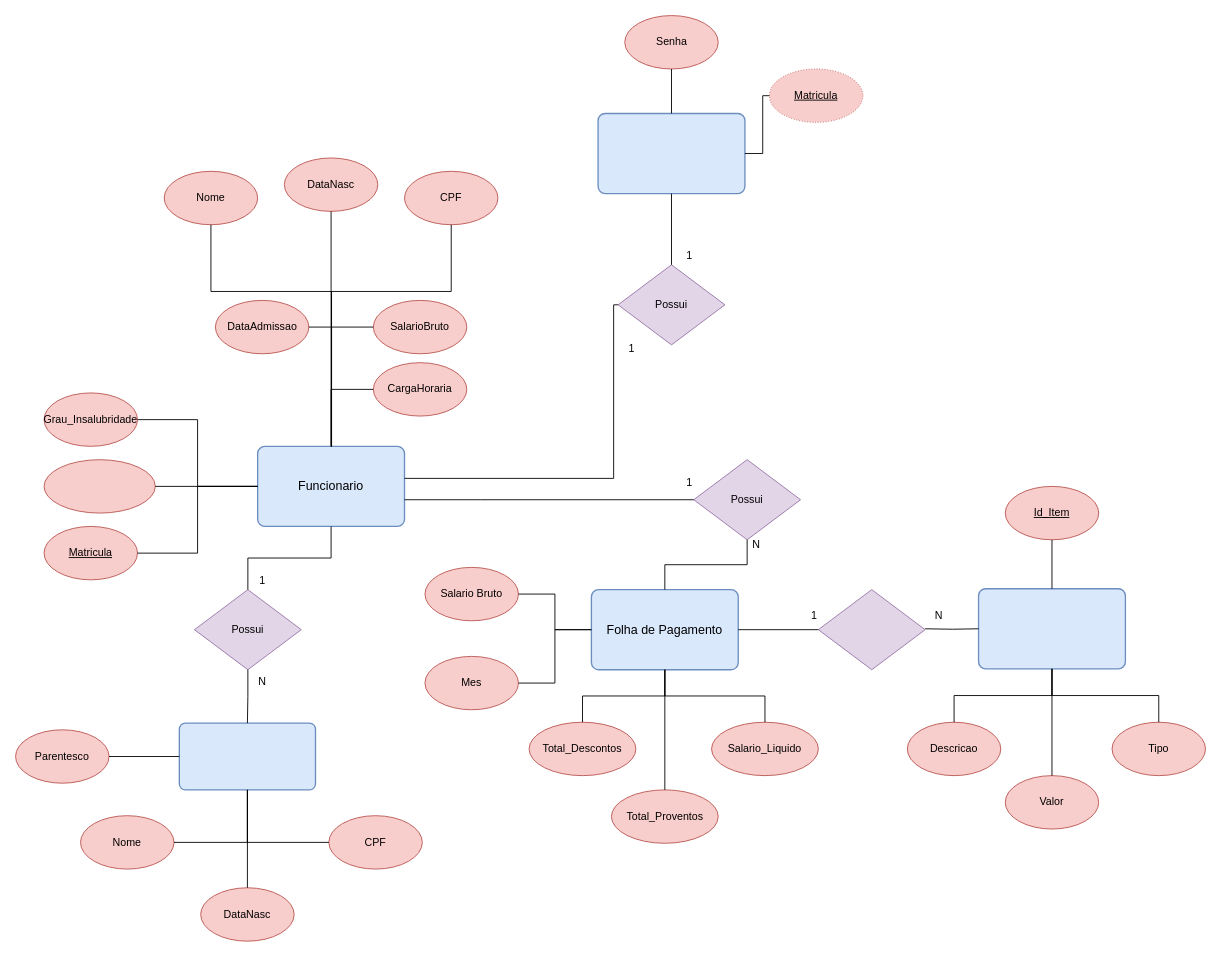
The diagram is 1221 pixels wide and 957 high, and some of its shapes have lost their labels. Each missing label, with the centre of its shape:
Contém: [871,629]
Dependente: [247,756]
Item Folha: [1051,628]
Login: [671,153]
Possui_Periculosidade: [99,486]
